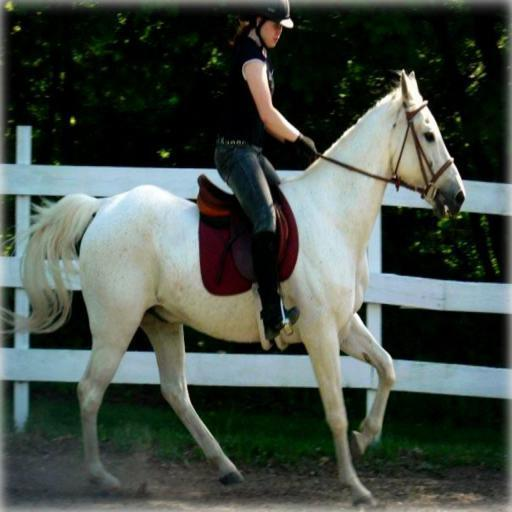horse: (0, 66, 469, 510)
